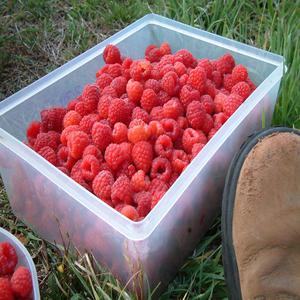raspb: (99, 61, 197, 186)
